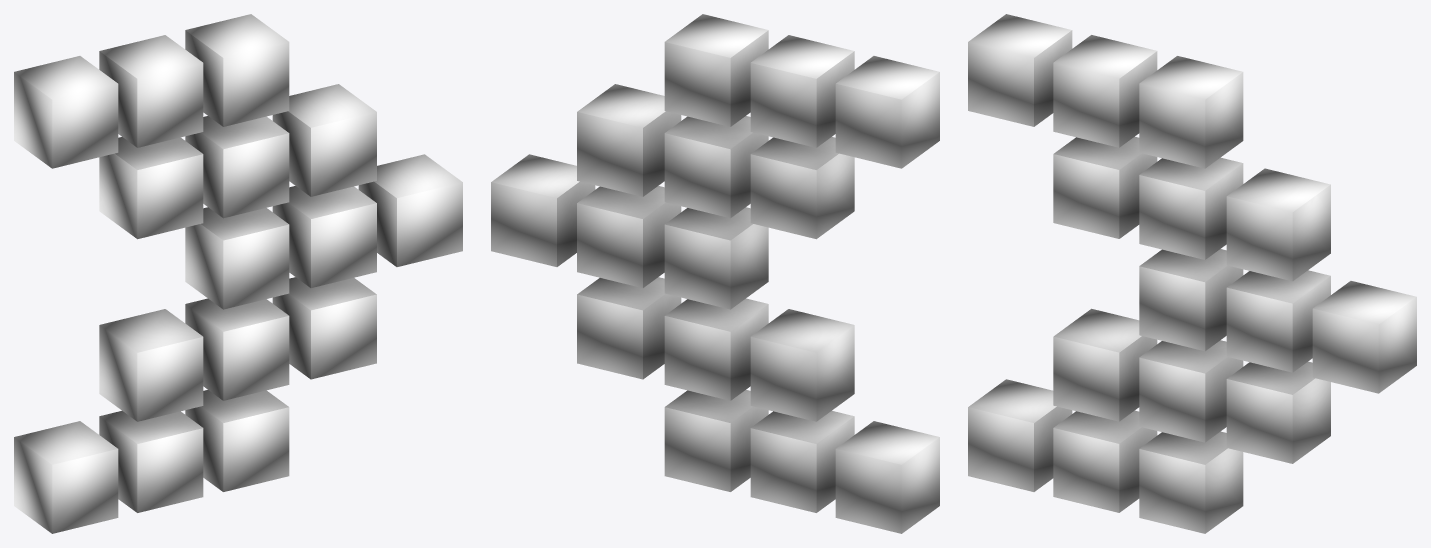
The model's file is Arrow14.fbx.
3 views of the same model, side by side, from view 1: azimuth 30°, elevation 25°; view 2: azimuth 150°, elevation 25°; view 3: azimuth 330°, elevation 25° (orthographic).
Visible parts, largest first — view 1: Arrow14; view 2: Arrow14; view 3: Arrow14.
Part boxes in pixels (box(x1,y1,x2,y2)): Arrow14: box(14, 14, 462, 533); Arrow14: box(491, 14, 939, 533); Arrow14: box(968, 14, 1416, 533).
Bounding box in the file's own units: 4.95 × 5 × 0.795.
